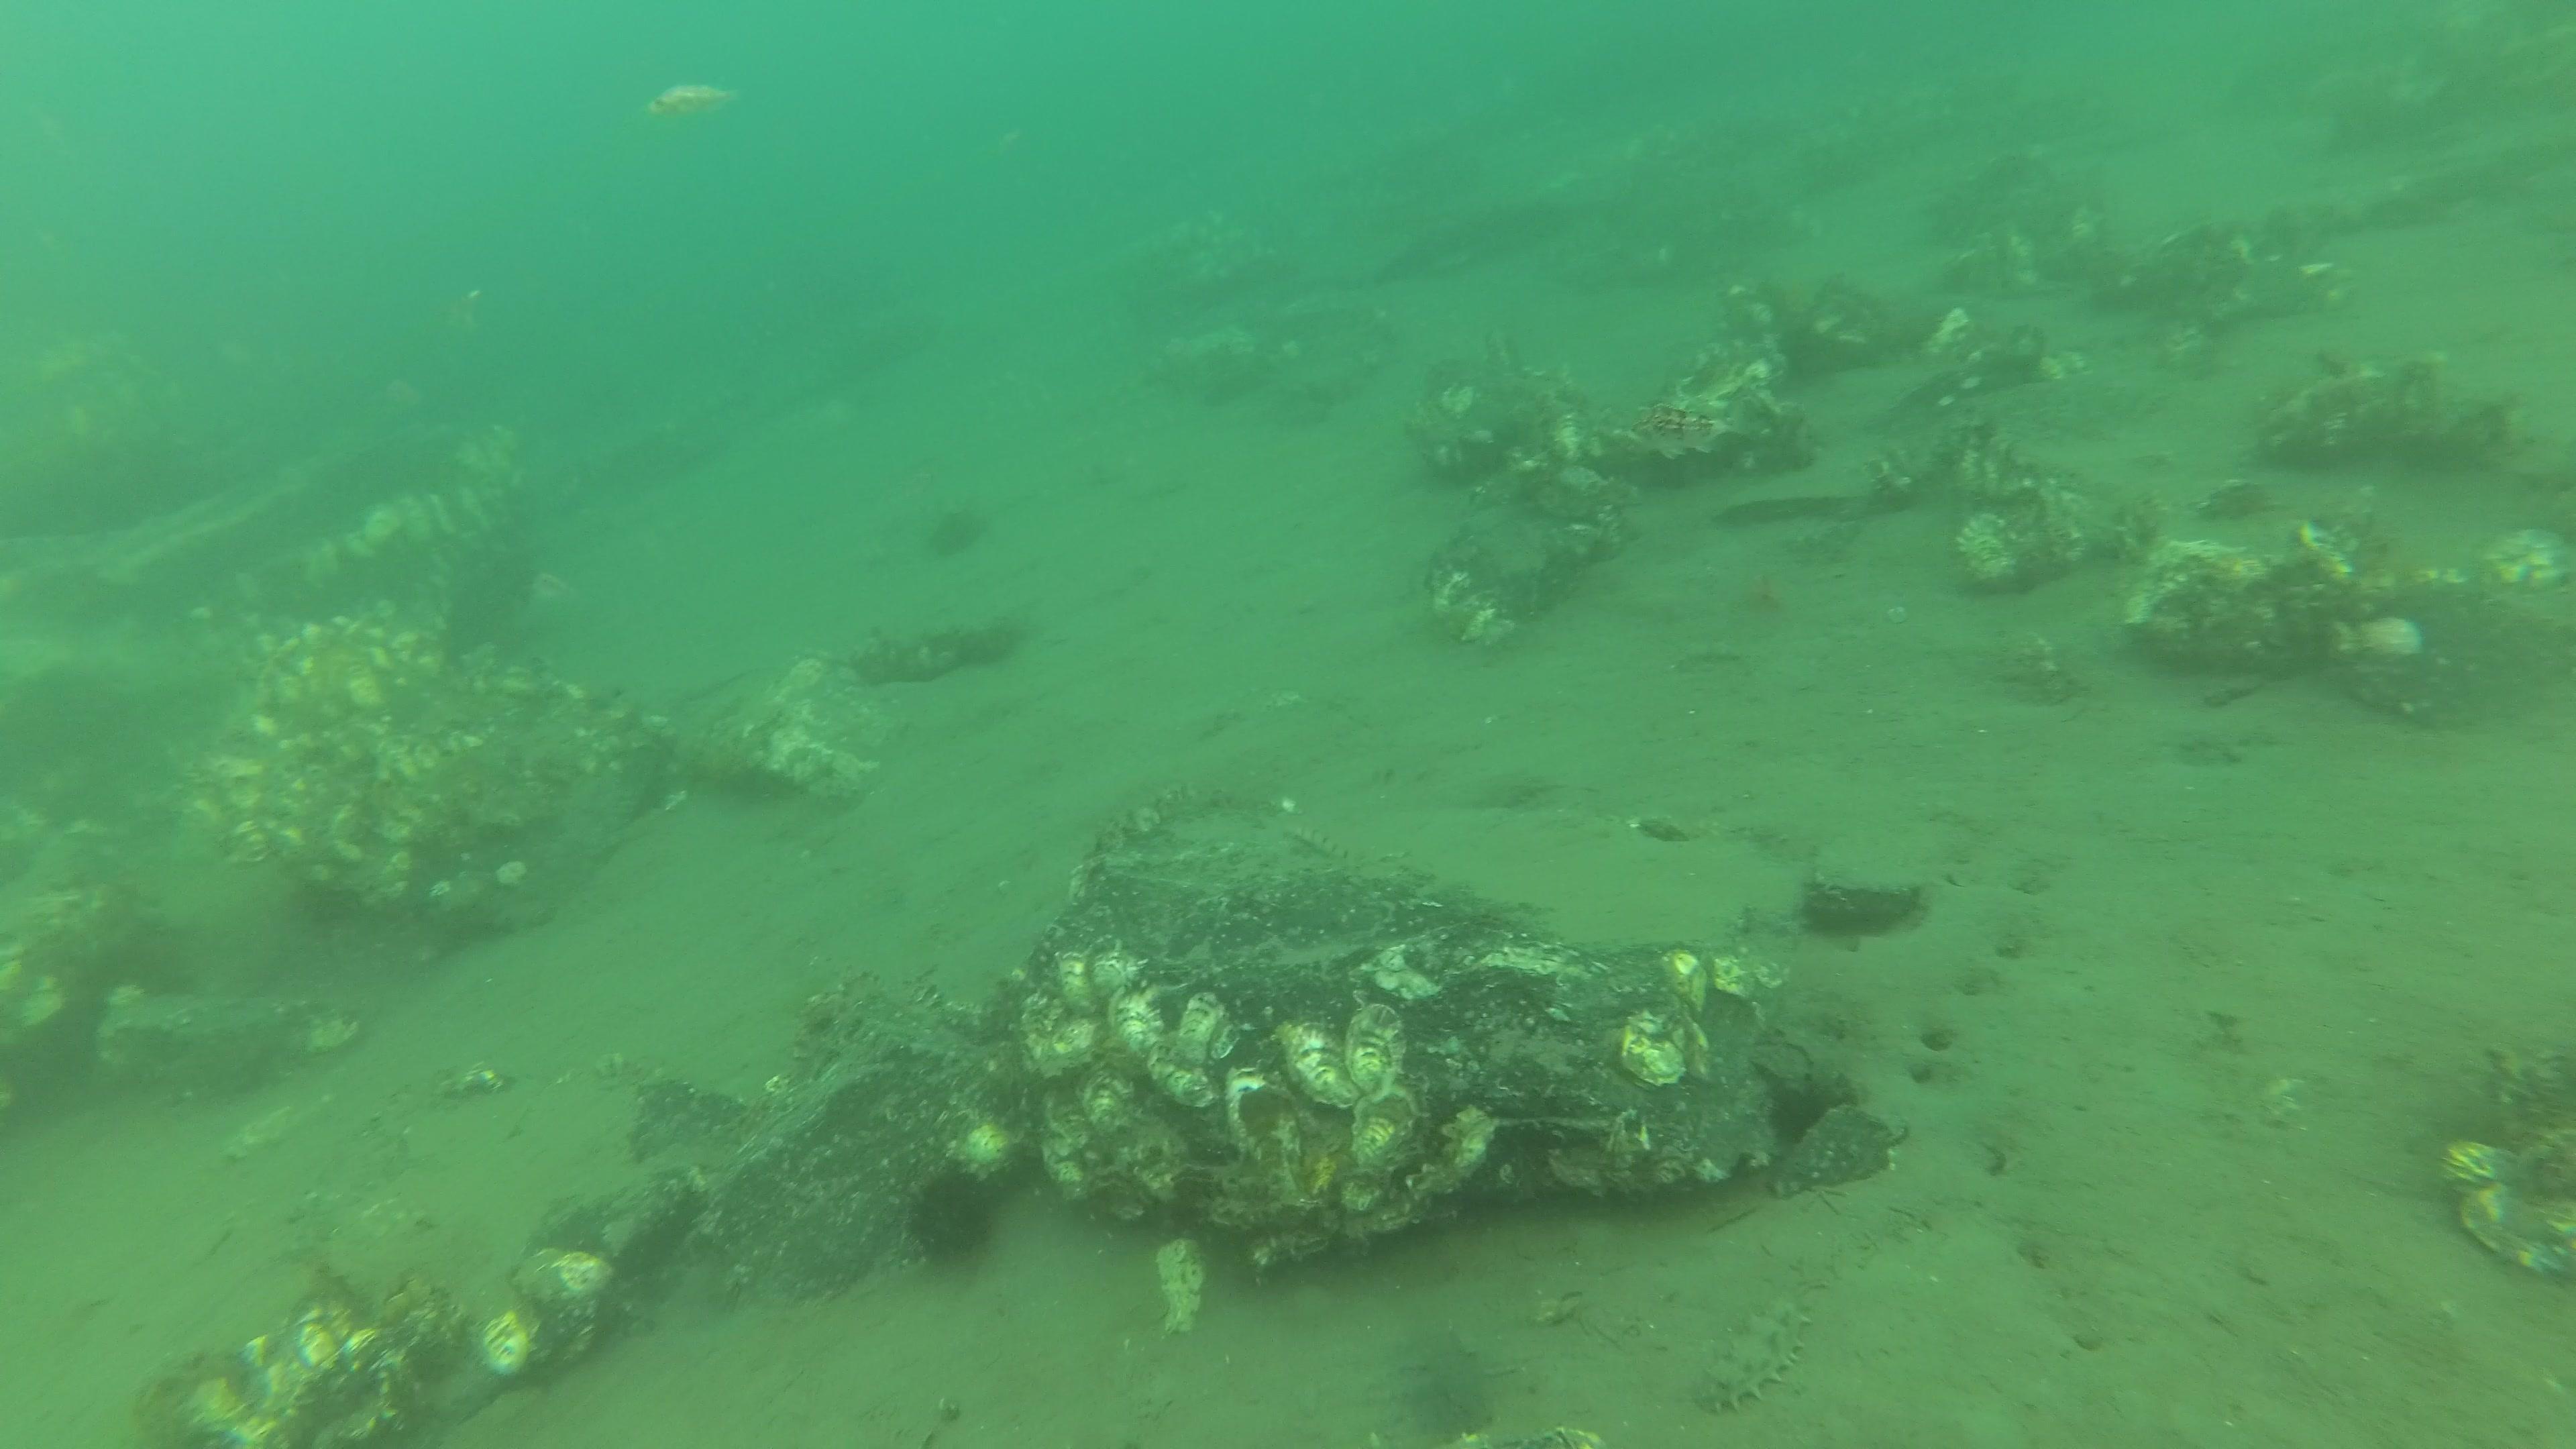echinus: (909, 1169, 1000, 1263)
holothurian: (1697, 1277, 1810, 1419)
